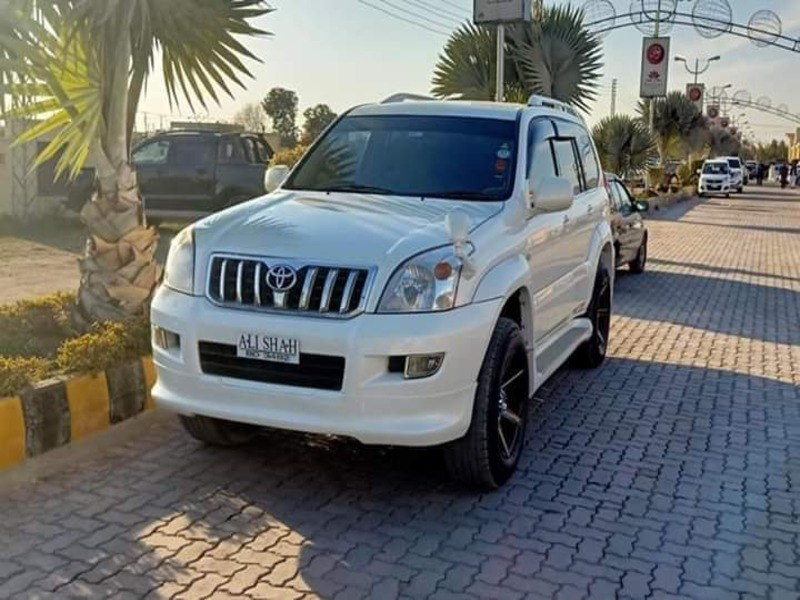License Plate: (230, 326, 303, 370)
